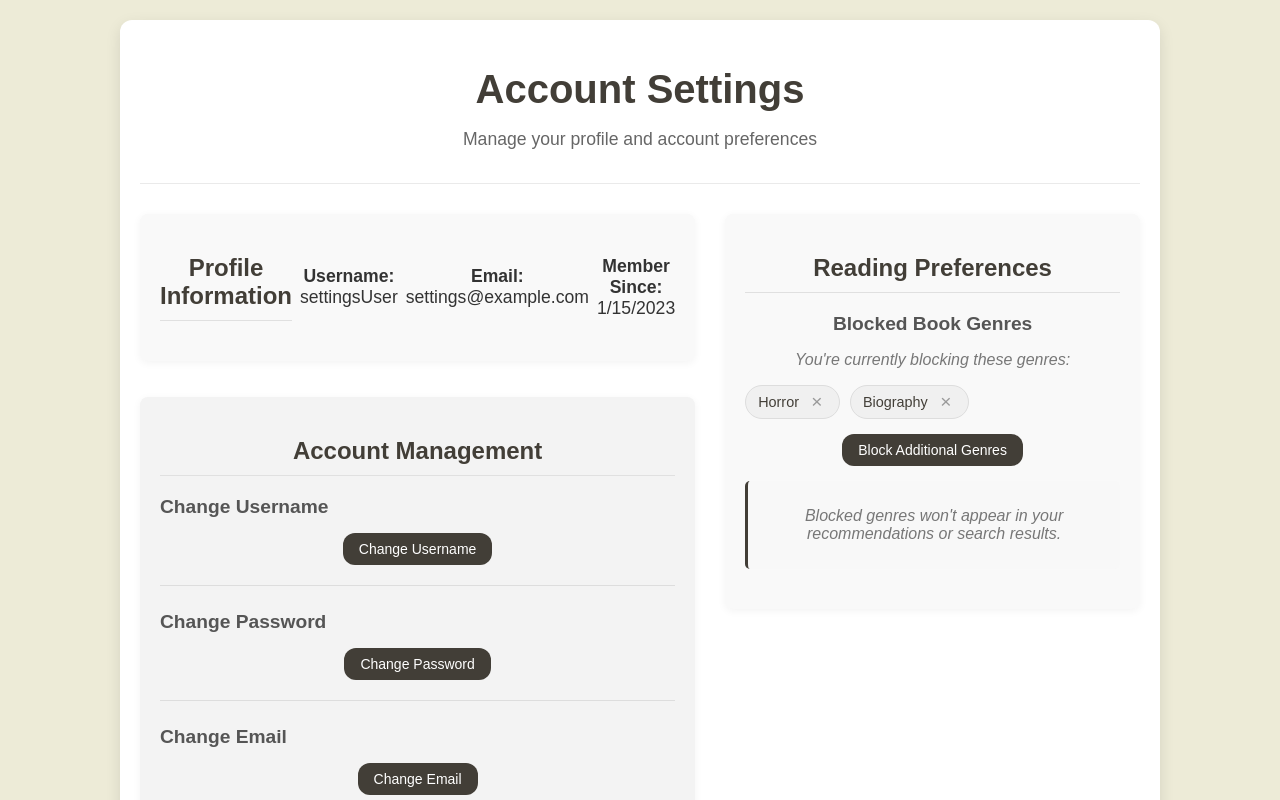
Test: Settings Component › removes a blocked genre and shows success message
Check: the list item "Horror" is shown, box [758, 394, 799, 410]
Click the button titled "Remove genre" next to "Horror" at {"x": 817, "y": 402}, box [807, 392, 827, 412]
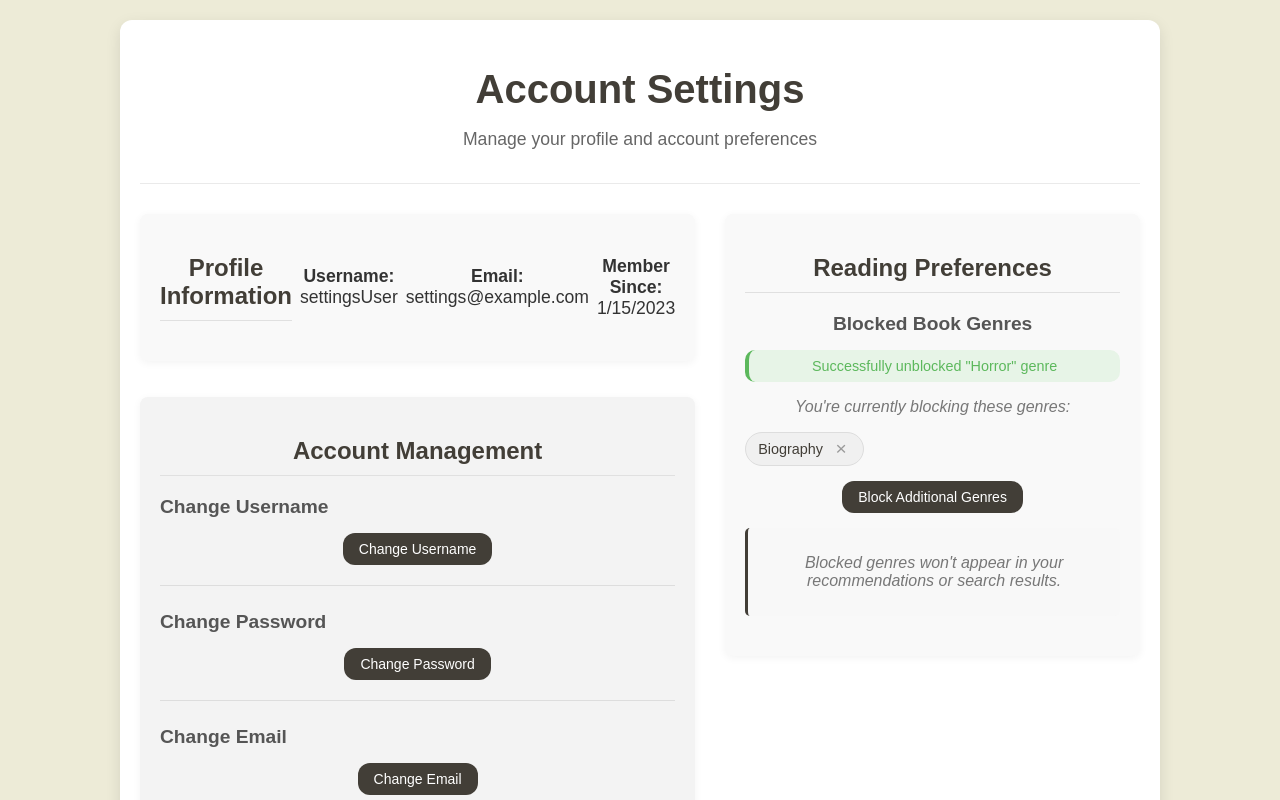
Check: the text "Successfully unblocked \"Horror\" genre" is shown, box [745, 350, 1120, 382]
